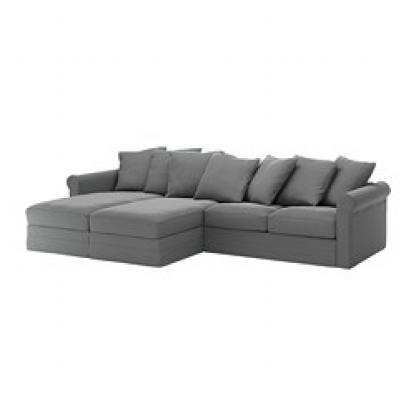Sofa: (18, 135, 393, 283)
